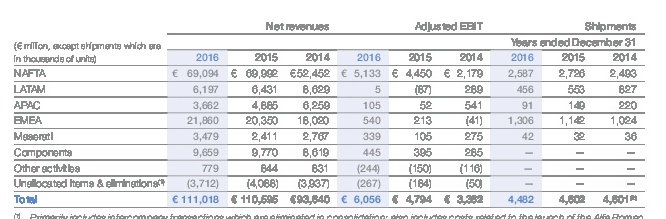table: (0, 0, 666, 219)
